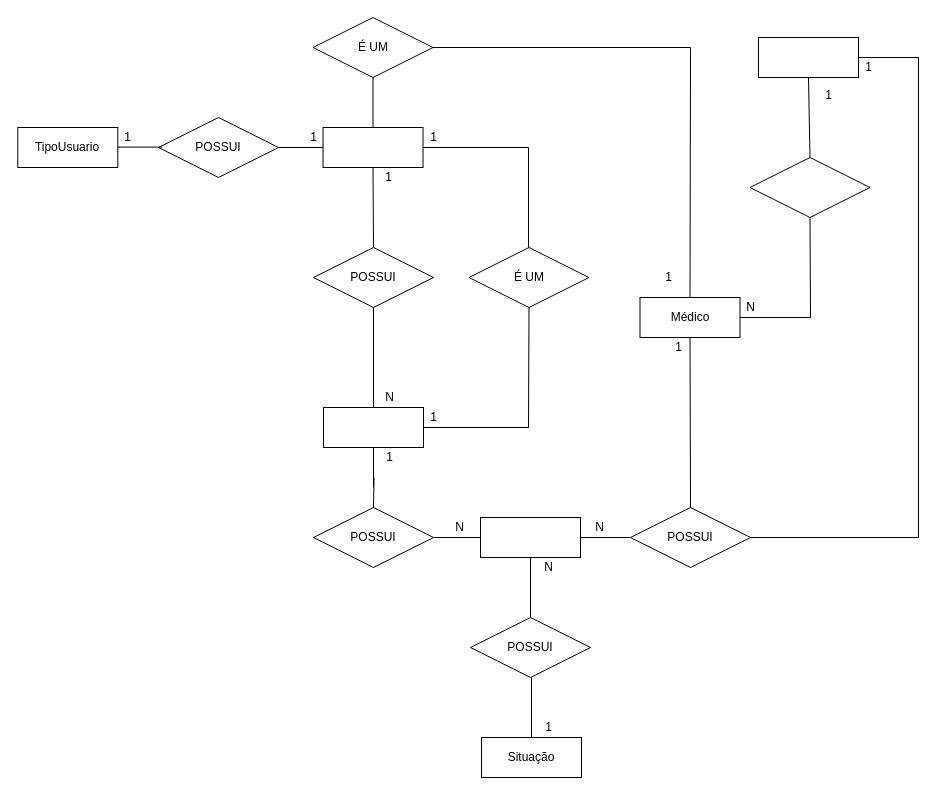
Some shapes in this 937 by 795 pixel diagram are drawn without their labels. Here are the shapes that lost their labels. From the top down, the centre of each, then its label:
At point 808,57: "Clínica".
At point 372,147: "Usuario".
At point 809,187: "TEM".
At point 373,427: "Paciente".
At point 530,537: "Consulta".
